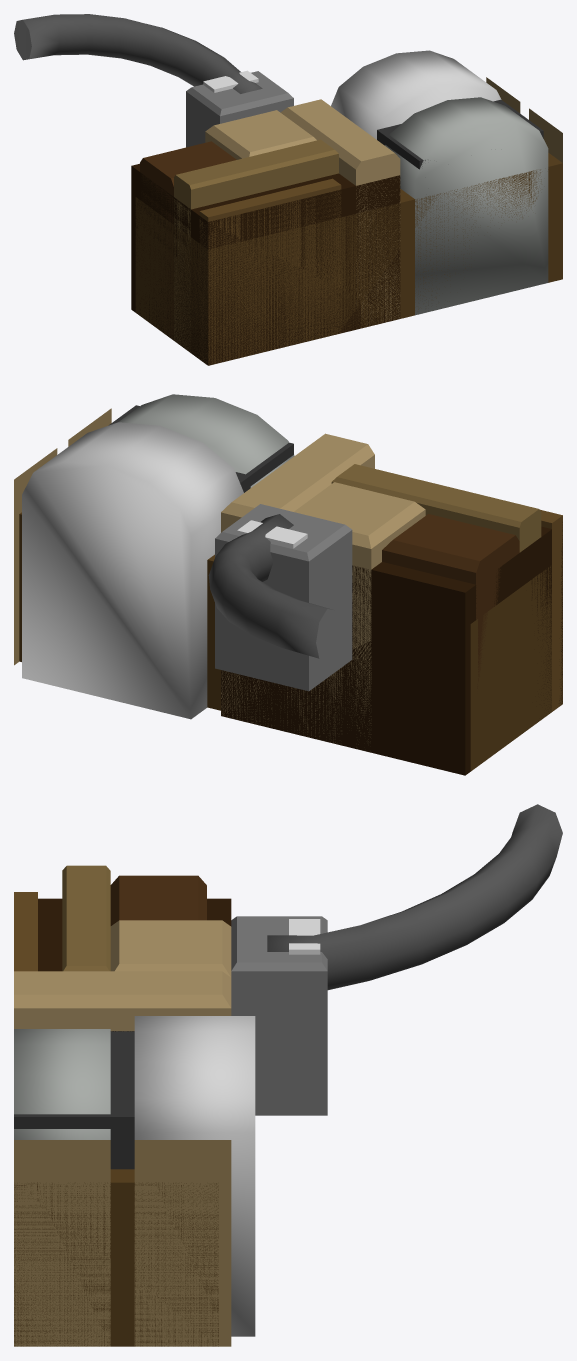
The model's file is newsha-157.glb.
The picture shows the model from 3 angles, top to bottom: view 1: azimuth 30°, elevation 25°; view 2: azimuth 150°, elevation 25°; view 3: azimuth 270°, elevation 25°; orthographic projection. The views are drawn at different scales.
Visible parts, largest first — view 1: newsha-157; view 2: newsha-157; view 3: newsha-157.
Part boxes in pixels (x1=…): newsha-157: x1=14, y1=14, x2=562, y2=365; newsha-157: x1=14, y1=394, x2=562, y2=775; newsha-157: x1=14, y1=804, x2=562, y2=1346.
Bounding box in the file's own units: 2 × 1.13 × 1.9.
